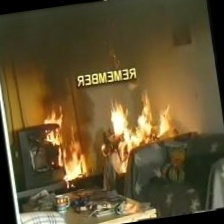fire: (32, 70, 184, 194)
